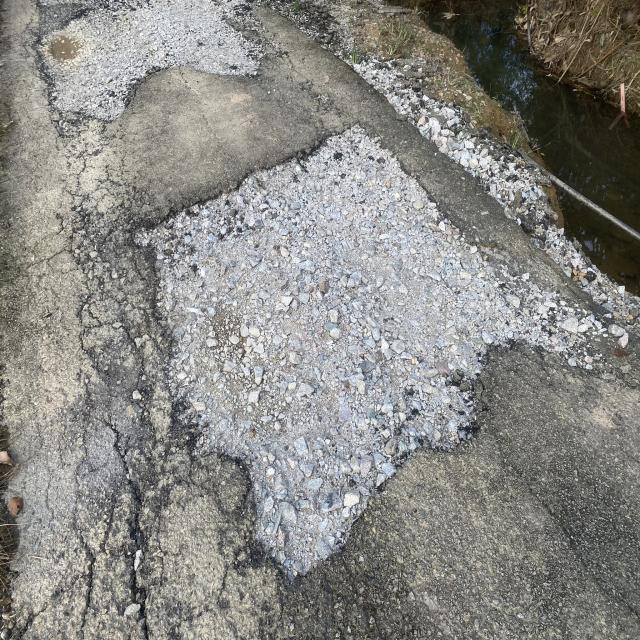pothole: (130, 118, 480, 628)
